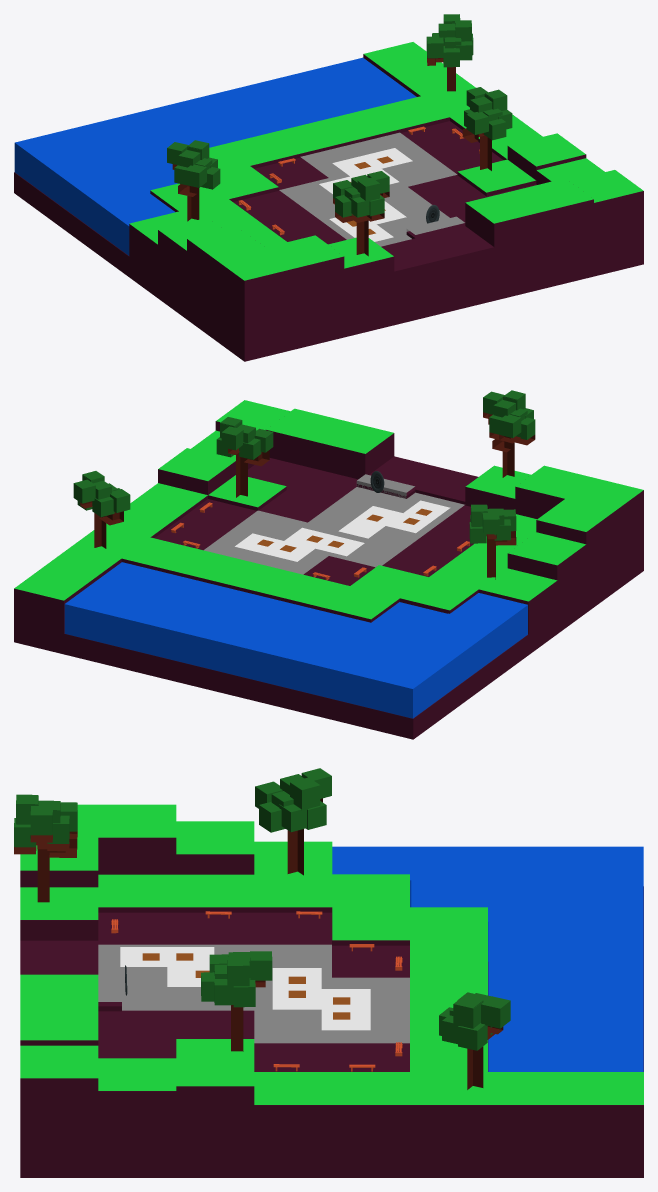
The model's file is park.gltf.glb.
3 renders of one model, top to bottom at view 1: azimuth 30°, elevation 25°; view 2: azimuth 150°, elevation 25°; view 3: azimuth 270°, elevation 25°, orthographic. The views are drawn at different scales.
Visible parts, largest first — view 1: Cube; view 2: Cube; view 3: Cube.
Part boxes in pixels (left/top/right/bottom): Cube: left=14, top=14, right=643, bottom=361; Cube: left=14, top=390, right=643, bottom=739; Cube: left=14, top=768, right=643, bottom=1177.
Size of the model in its own units: 106 by 37.09 by 107.
